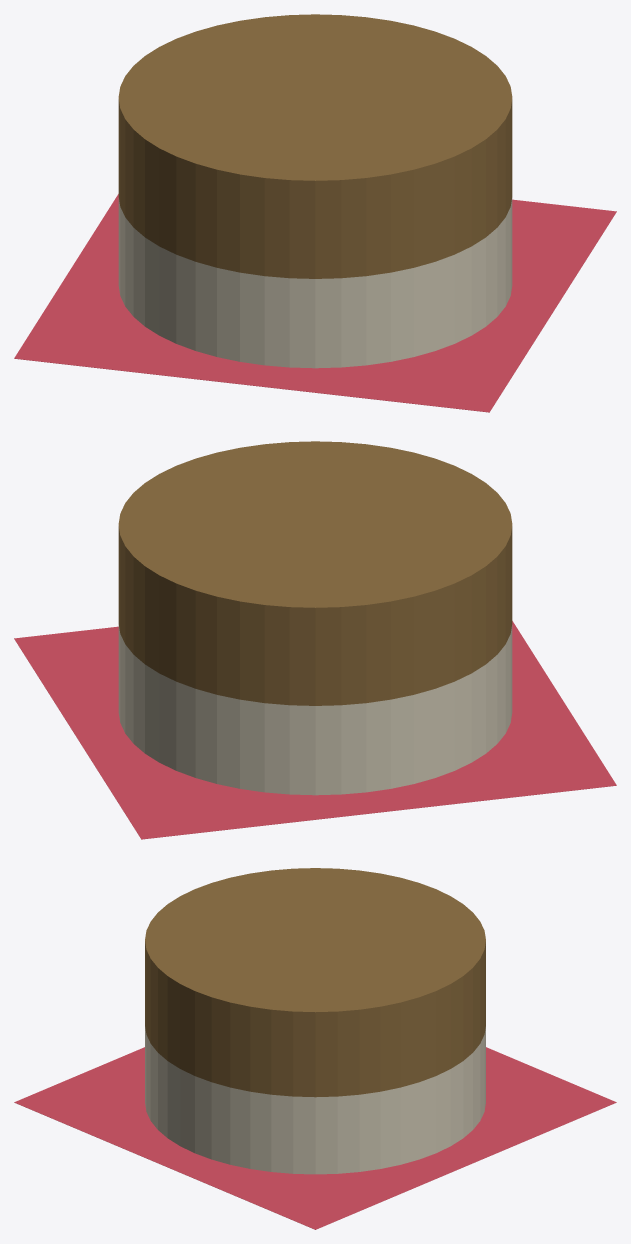
Rendered from VCC.glb.
3 renders of one model, top to bottom at view 1: azimuth 30°, elevation 25°; view 2: azimuth 150°, elevation 25°; view 3: azimuth 270°, elevation 25°, orthographic. The views are drawn at different scales.
Parts seen in each view (by area): view 1: Mesh_Mesh_head_geo.001_lambert2SG.001; view 2: Mesh_Mesh_head_geo.001_lambert2SG.001; view 3: Mesh_Mesh_head_geo.001_lambert2SG.001.
Boxes of the visible parts, x1,y1,x2,y2 form: Mesh_Mesh_head_geo.001_lambert2SG.001: (14, 14, 616, 412); Mesh_Mesh_head_geo.001_lambert2SG.001: (14, 441, 616, 839); Mesh_Mesh_head_geo.001_lambert2SG.001: (14, 868, 616, 1229).
Bounding box in the file's own units: 0.0354 × 0.0105 × 0.0354.
